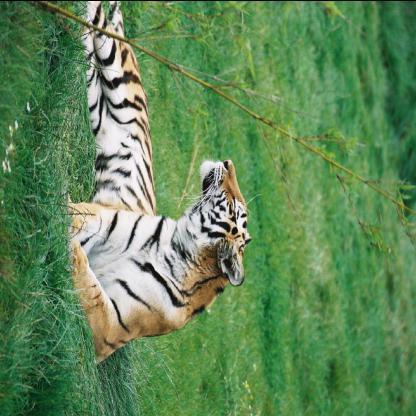tiger: (186, 143, 268, 267)
